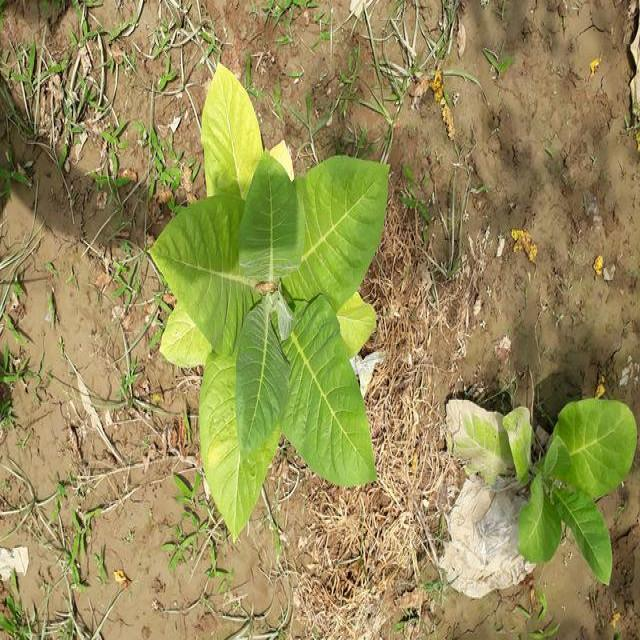crop: (153, 55, 391, 532), (442, 388, 634, 597)
